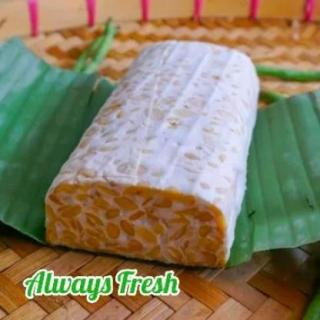Tempe: (38, 38, 263, 272)
